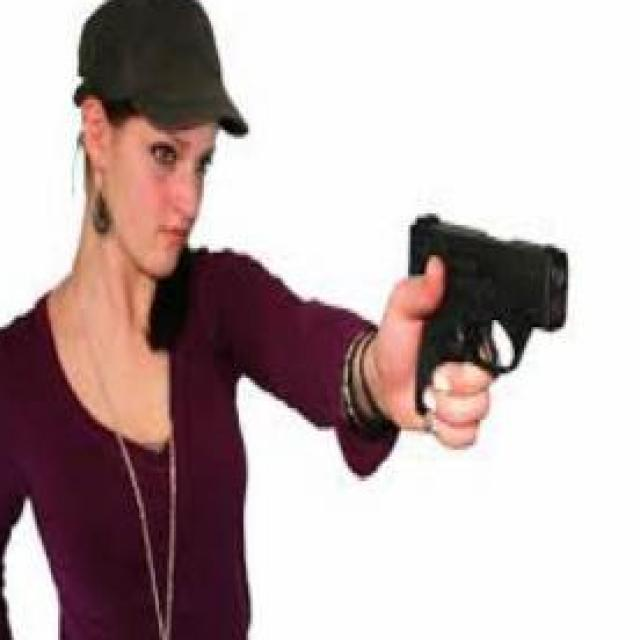pistol: (406, 199, 575, 442)
